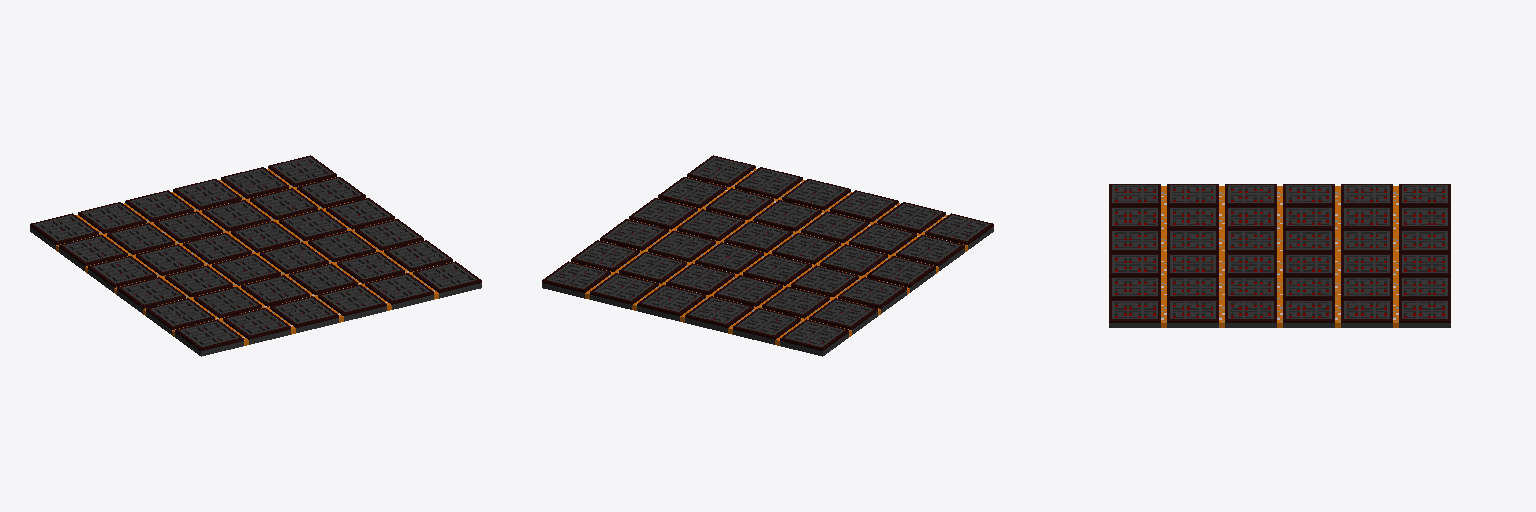
The picture shows the model from 3 angles: view 1: azimuth 30°, elevation 25°; view 2: azimuth 150°, elevation 25°; view 3: azimuth 270°, elevation 25°; orthographic projection.
Parts seen in each view (by area): view 1: object 1; view 2: object 1; view 3: object 1.
Part boxes in pixels (x1,y1,x2,y2): object 1: (30, 155, 481, 356); object 1: (542, 155, 993, 356); object 1: (1109, 184, 1450, 327).
Bounding box in the file's own units: 11.2 × 0.3 × 11.8.
Materials: 1 (1 with a texture image).